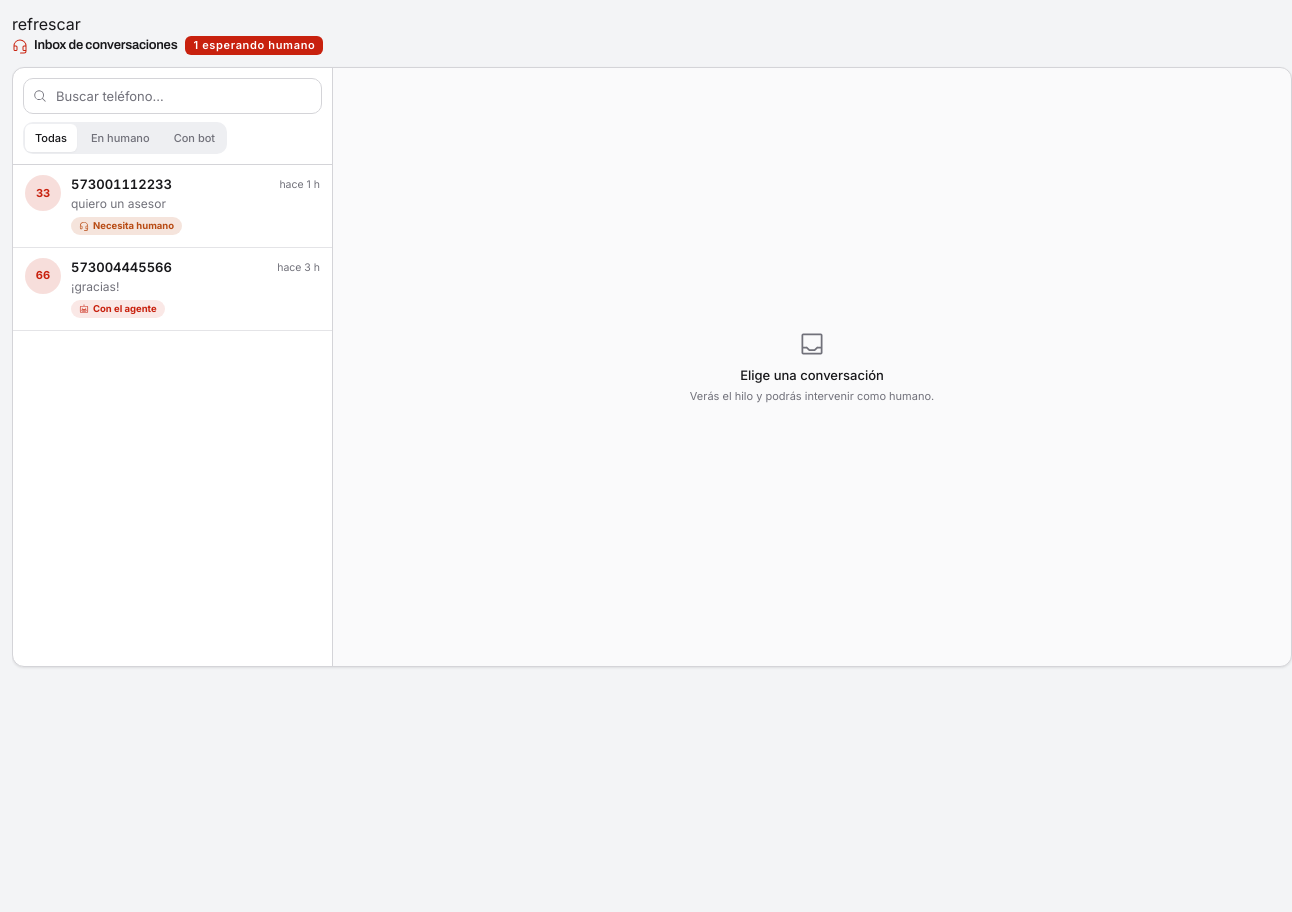
TabConversaciones — inbox › fuera de la ventana de 24h: el composer se deshabilita aunque esté en humano
This screenshot has width=1292, height=912.
Click the text "573001112233" at (121, 185), box [71,175,172,194]
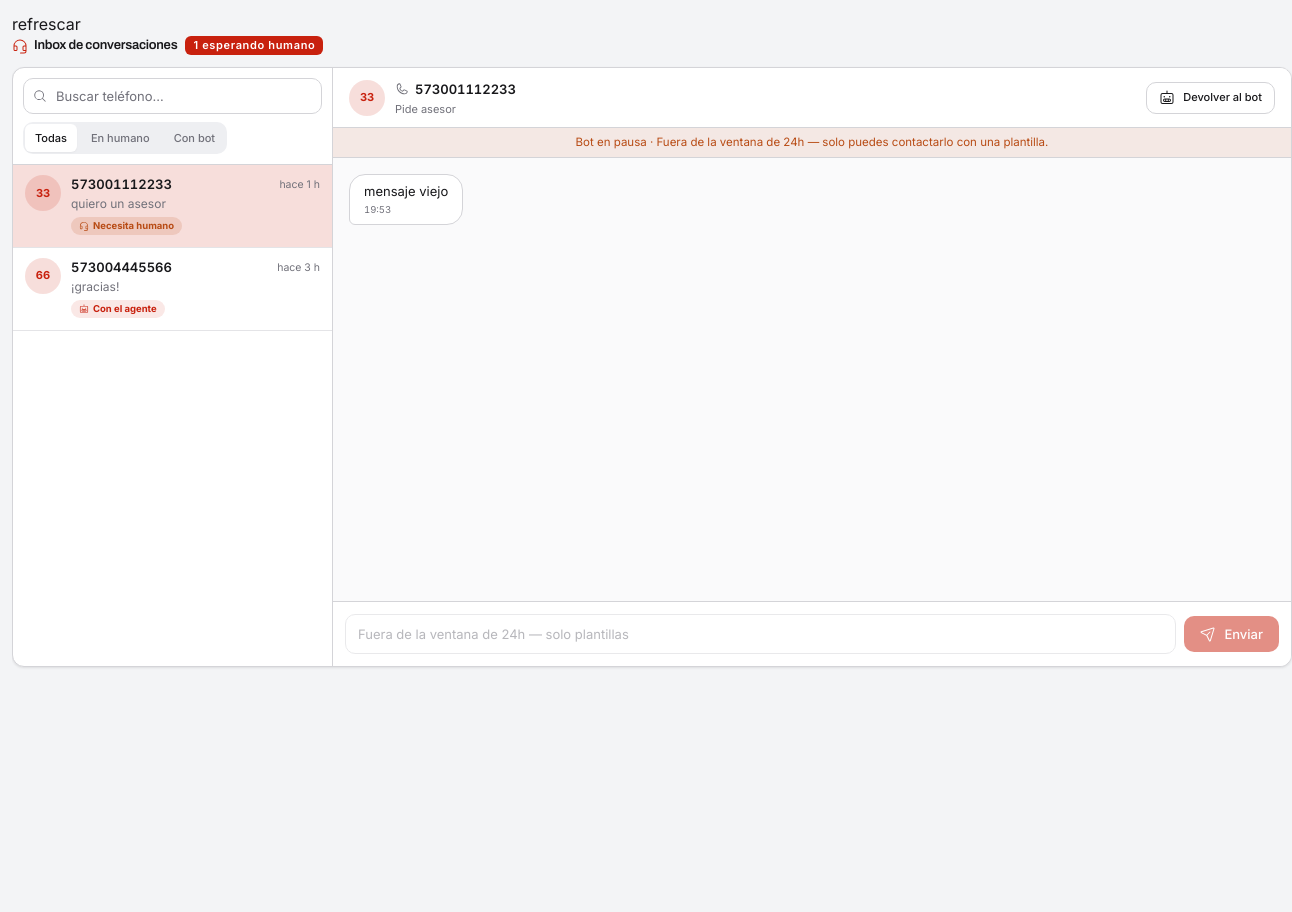
Now the text "mensaje viejo" is shown, box [364,184,448,201]
Now the field named "Mensaje para el cliente" is disabled, box [345,614,1176,654]
Now the text "ventana de 24h" is shown, box [576,135,1048,149]
